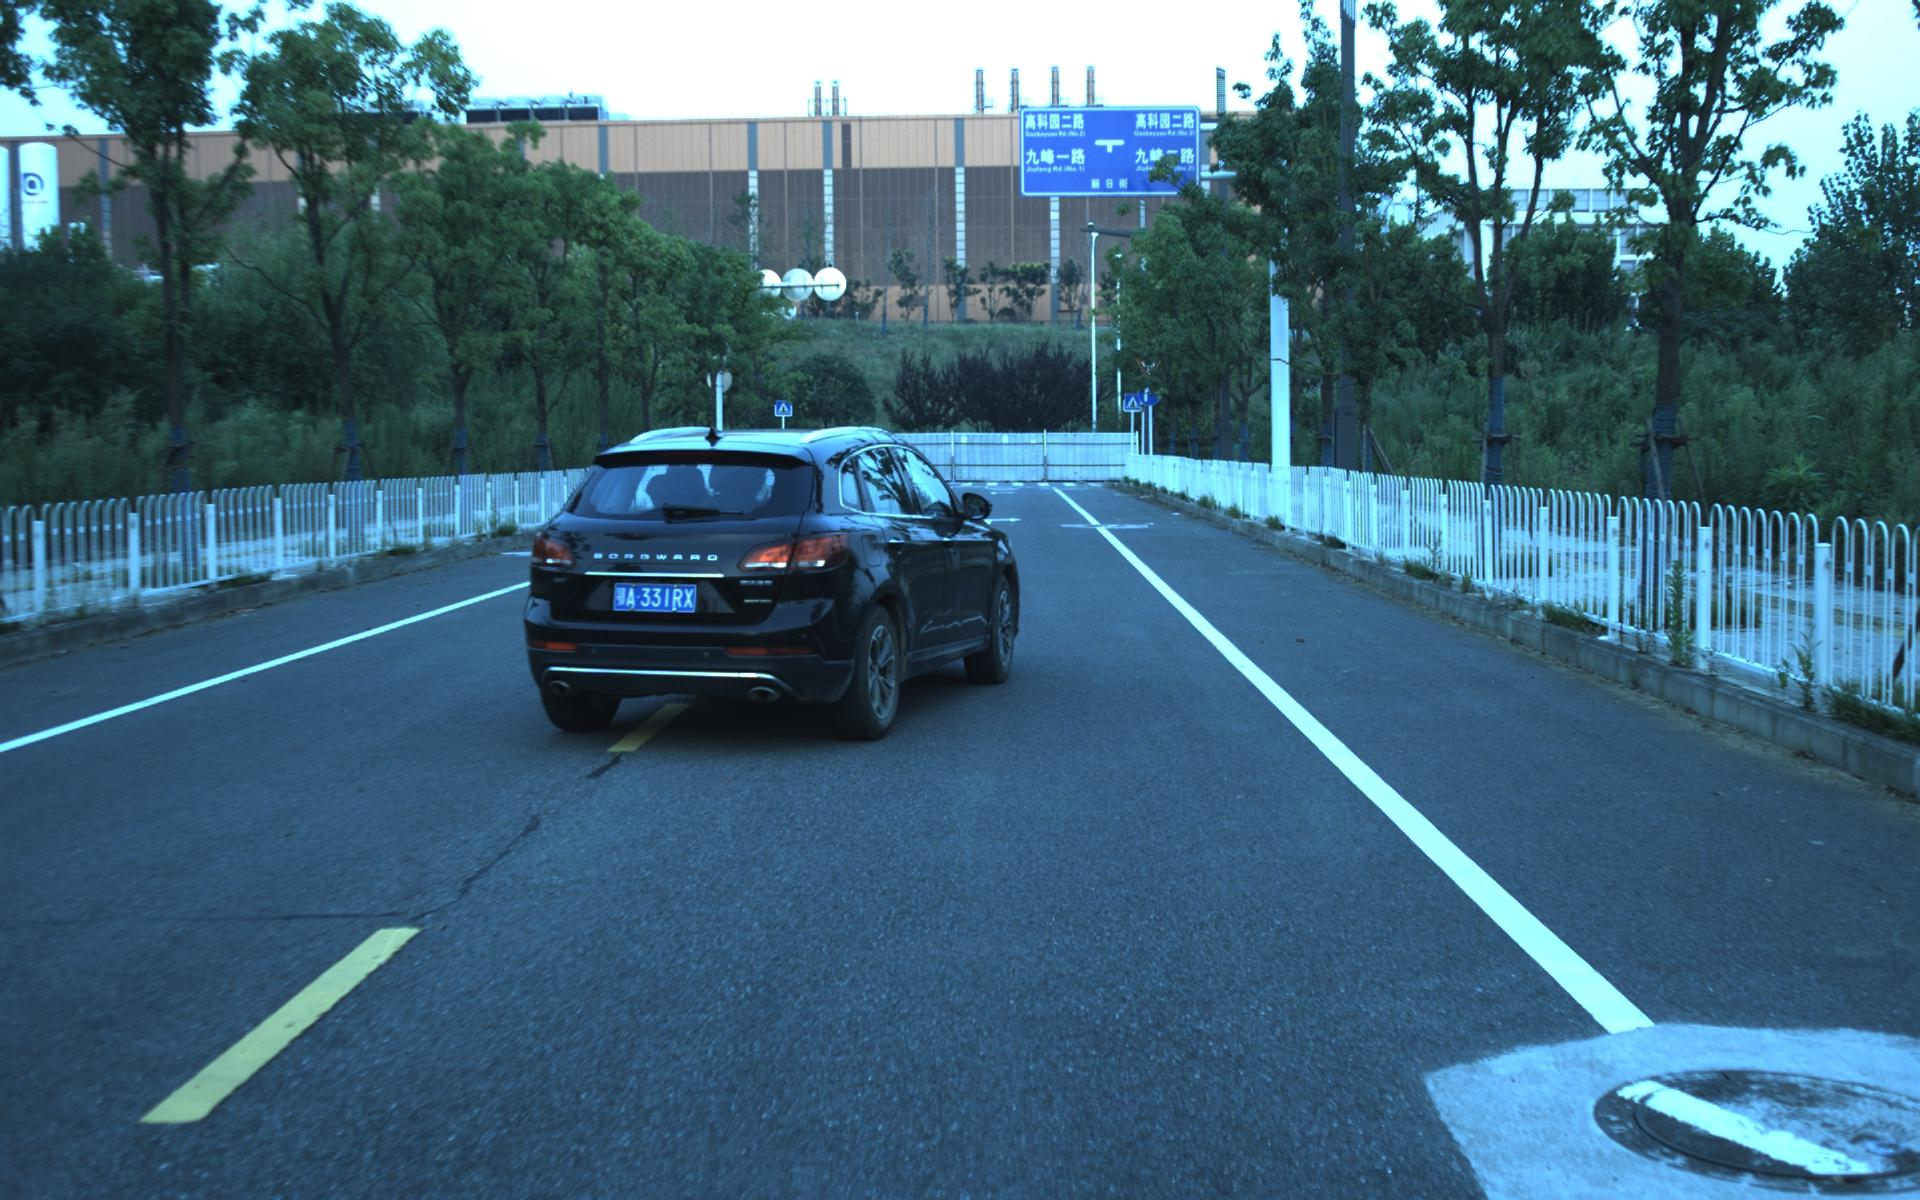Car: (500, 413, 1023, 752)
